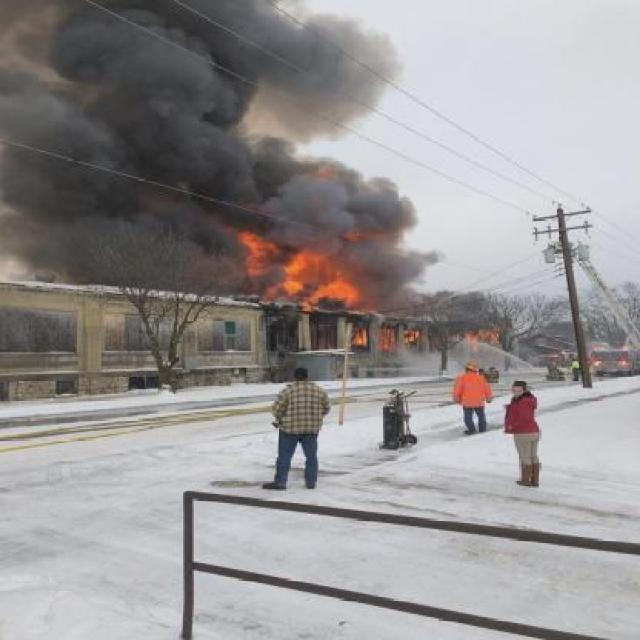Fire: (229, 229, 363, 320), (348, 324, 430, 354)
Smoke: (1, 0, 402, 231)
